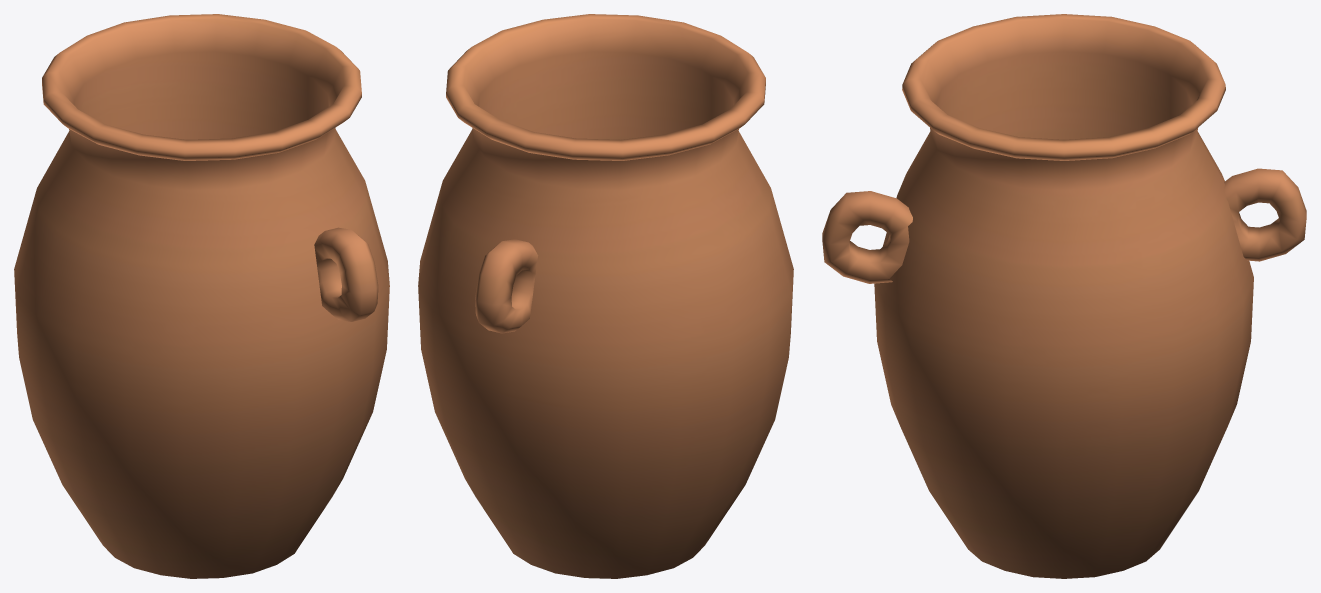
Rendered from SM_AncientVase_02.fbx.
3 renders of one model, left to right at view 1: azimuth 30°, elevation 25°; view 2: azimuth 150°, elevation 25°; view 3: azimuth 270°, elevation 25°, orthographic.
Visible parts, largest first — view 1: SM_AncientVase_02; view 2: SM_AncientVase_02; view 3: SM_AncientVase_02.
Boxes of the visible parts, left/top/right/bottom form: SM_AncientVase_02: left=14, top=14, right=389, bottom=578; SM_AncientVase_02: left=418, top=14, right=793, bottom=578; SM_AncientVase_02: left=822, top=14, right=1306, bottom=578.
Bounding box in the file's own units: 40.81 × 55.02 × 52.32.
